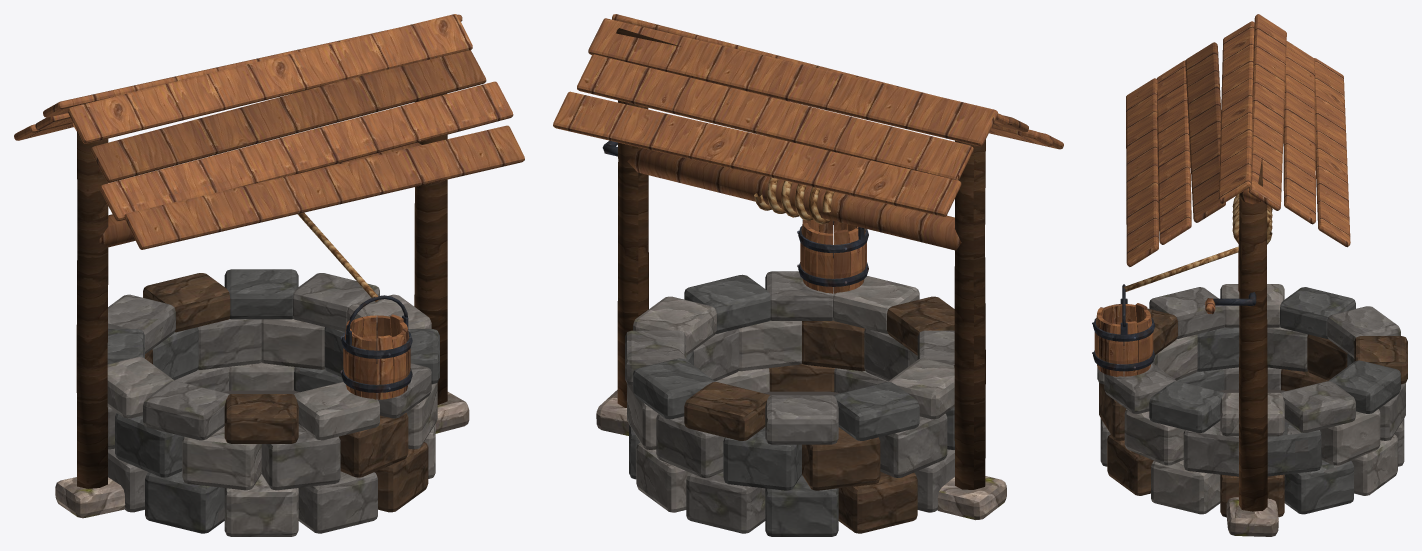
The model's file is well_dry.glb.
The picture shows the model from 3 angles, left to right: view 1: azimuth 30°, elevation 25°; view 2: azimuth 150°, elevation 25°; view 3: azimuth 270°, elevation 25°; orthographic projection. The views are drawn at different scales.
Parts seen in each view (by area): view 1: model; view 2: model; view 3: model.
Part boxes in pixels (box(x1,y1,x2,y2)): model: box(14, 14, 524, 536); model: box(553, 14, 1063, 536); model: box(1092, 14, 1407, 536).
Bounding box in the file's own units: 1.79 × 1.69 × 1.35.
16 materials, 15 textured.
